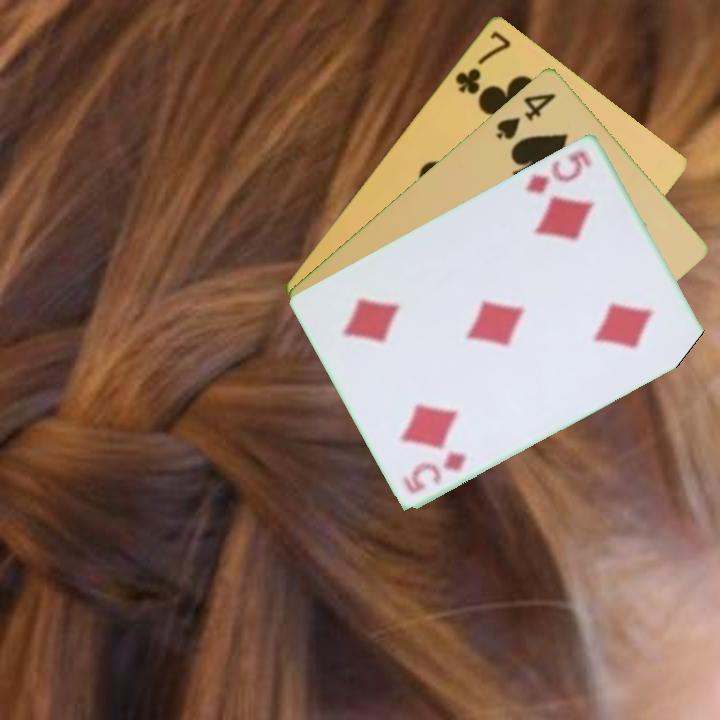4s: (492, 88, 559, 142)
5d: (521, 146, 595, 196), (399, 446, 469, 497)
7c: (451, 26, 514, 97)
